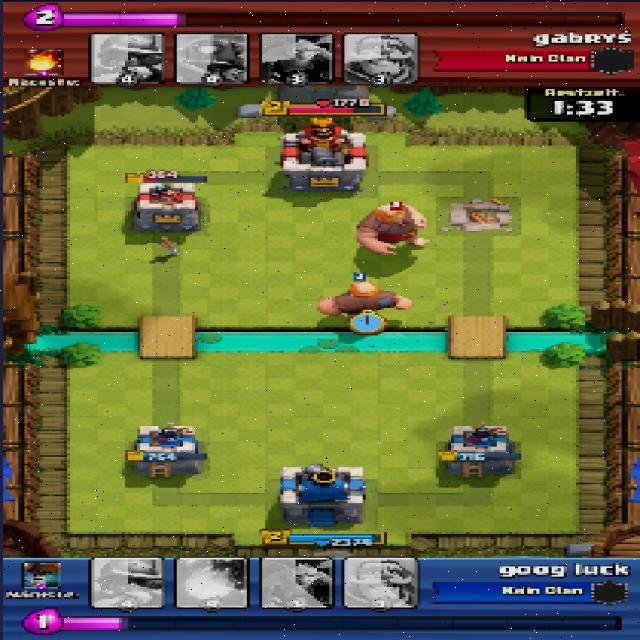Enemy-Giant: (356, 202, 434, 254)
Player-Giant: (318, 282, 411, 323)
